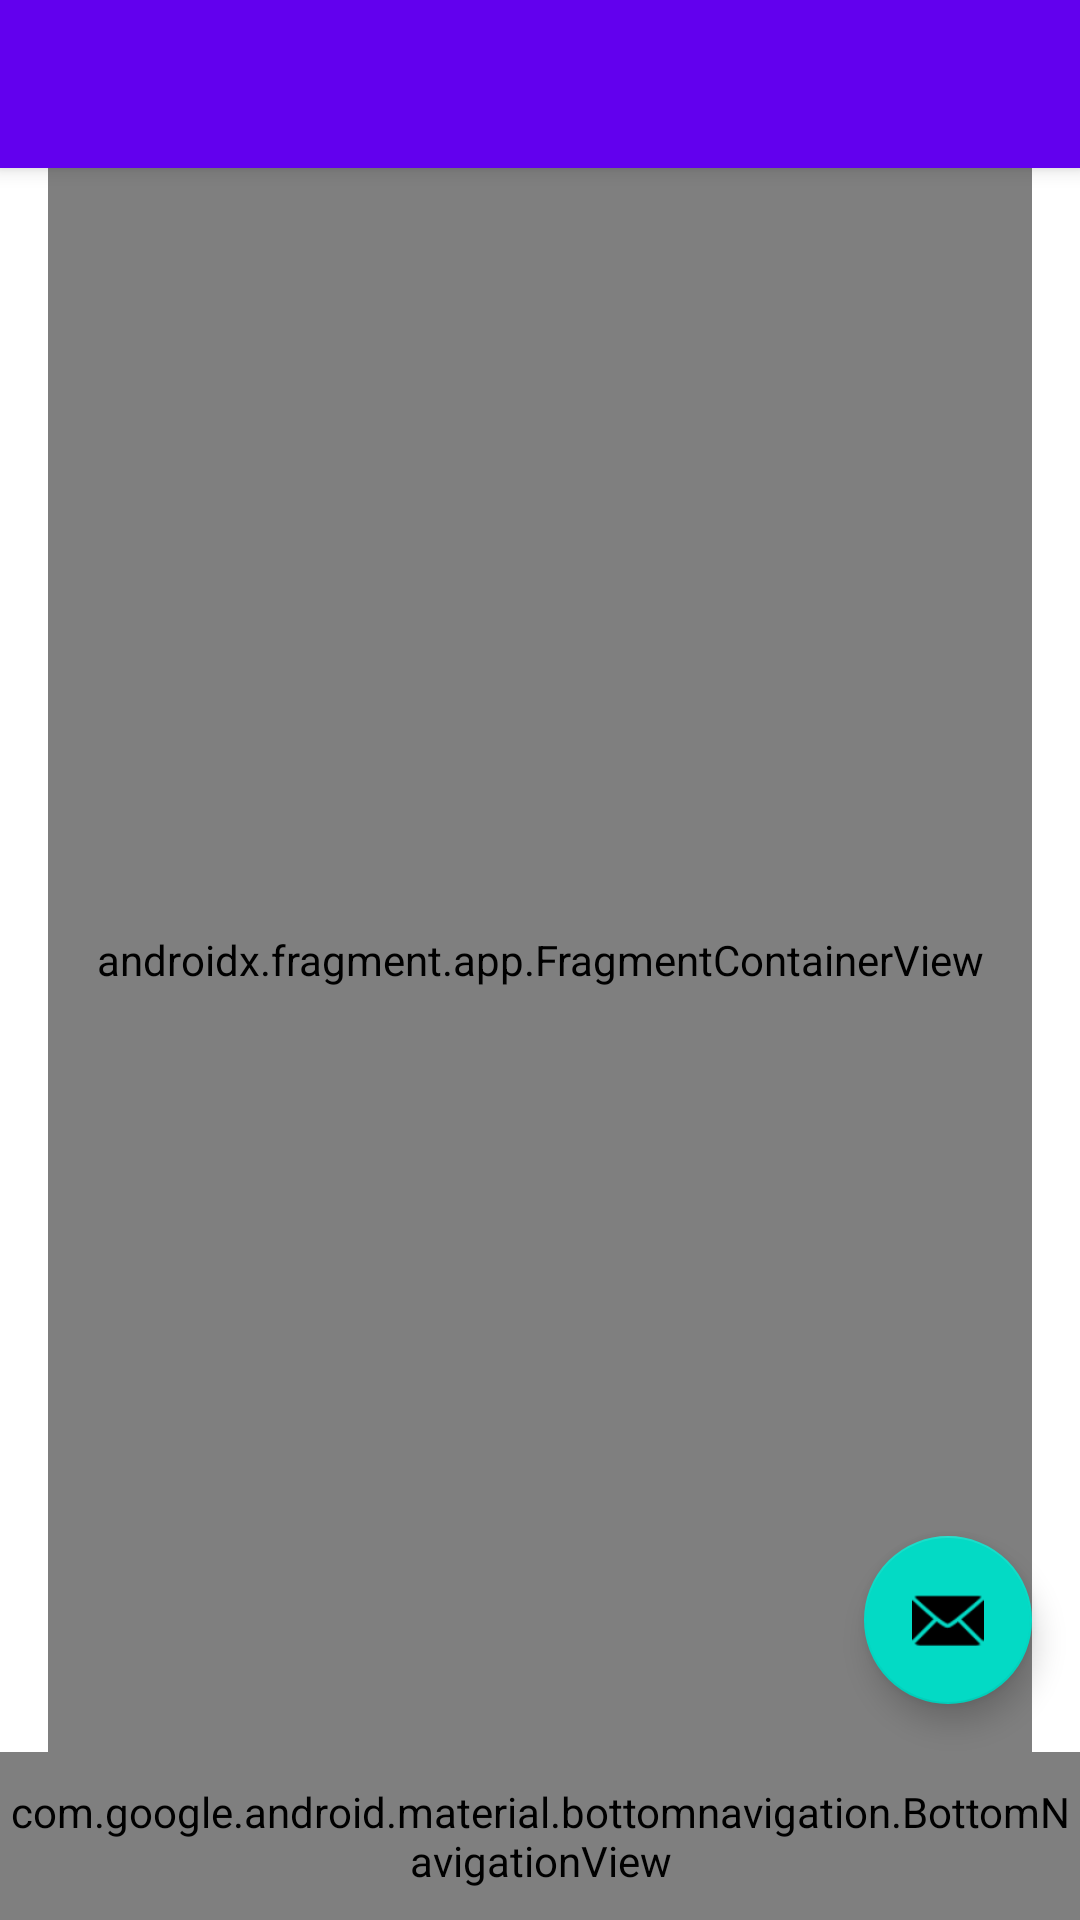

Named icons in this screenshot (1080 x 1920) and their bounding boxes, (x1, y1, x2, y2):
email: (864, 1536, 1032, 1704)
